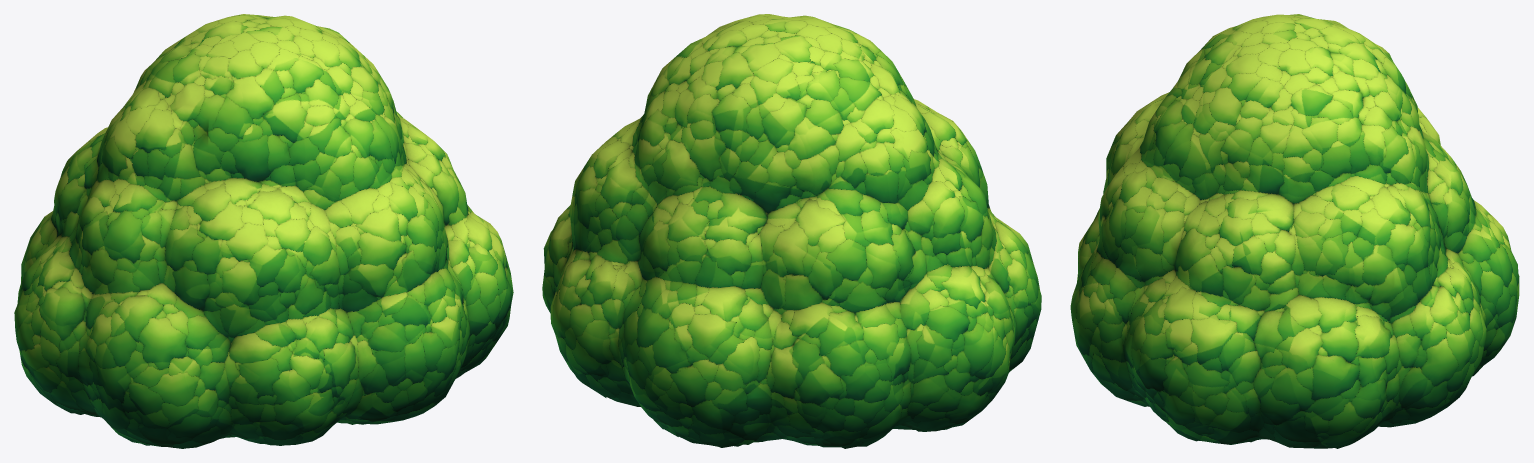
Rendered from bush_round_medium.glb.
3 renders of one model, left to right at view 1: azimuth 30°, elevation 25°; view 2: azimuth 150°, elevation 25°; view 3: azimuth 270°, elevation 25°, orthographic.
Parts seen in each view (by area): view 1: bush_round_medium; view 2: bush_round_medium; view 3: bush_round_medium.
Boxes of the visible parts, box(x1,y1,x2,y2) form: bush_round_medium: box(14, 14, 513, 448); bush_round_medium: box(542, 14, 1041, 448); bush_round_medium: box(1070, 14, 1519, 448).
Size of the model in its own units: 2.11 by 1.54 by 1.88.
1 material, 1 textured.
